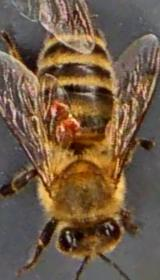varroa_mite: (49, 116, 85, 147), (46, 79, 76, 116), (146, 77, 148, 80)
